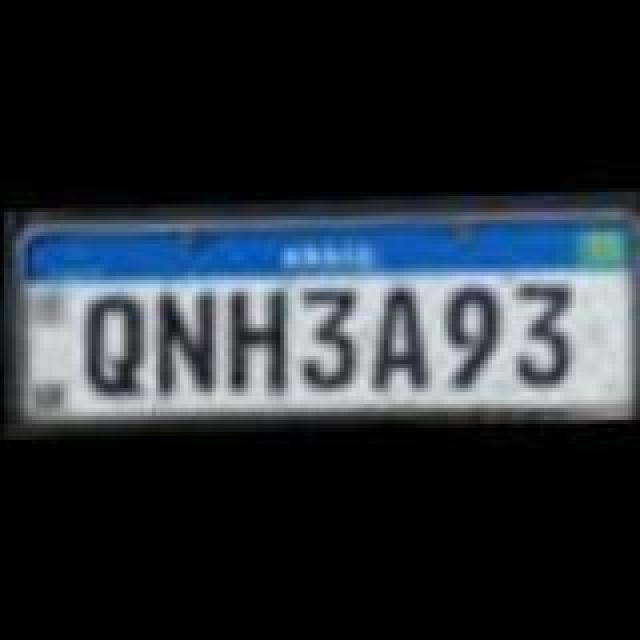3: (294, 282, 362, 398), (512, 280, 576, 396)
9: (440, 284, 496, 388)
A: (368, 276, 432, 392)
H: (220, 282, 292, 398)
N: (154, 284, 222, 400)
Q: (80, 286, 144, 398)
